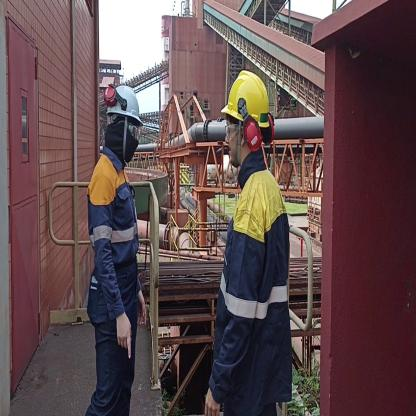Balaclava: (104, 114, 139, 164)
Capacete: (225, 72, 268, 125), (103, 77, 145, 120)
Operacional: (87, 158, 144, 320)
